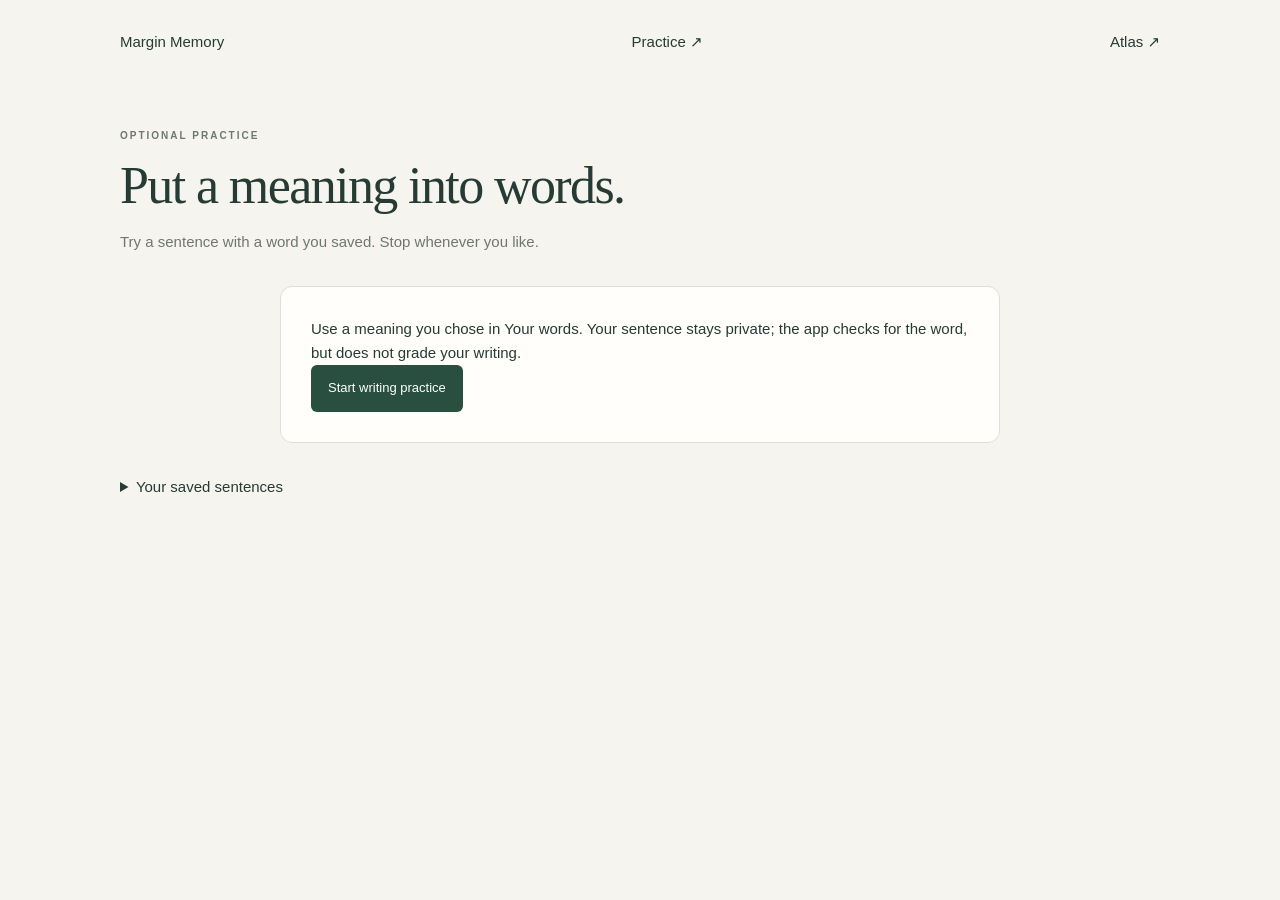
it: retains previously saved reflections inside optional history
Step 1. Click the heading "Your saved sentences" → [209, 486], box [136,478,283,495]
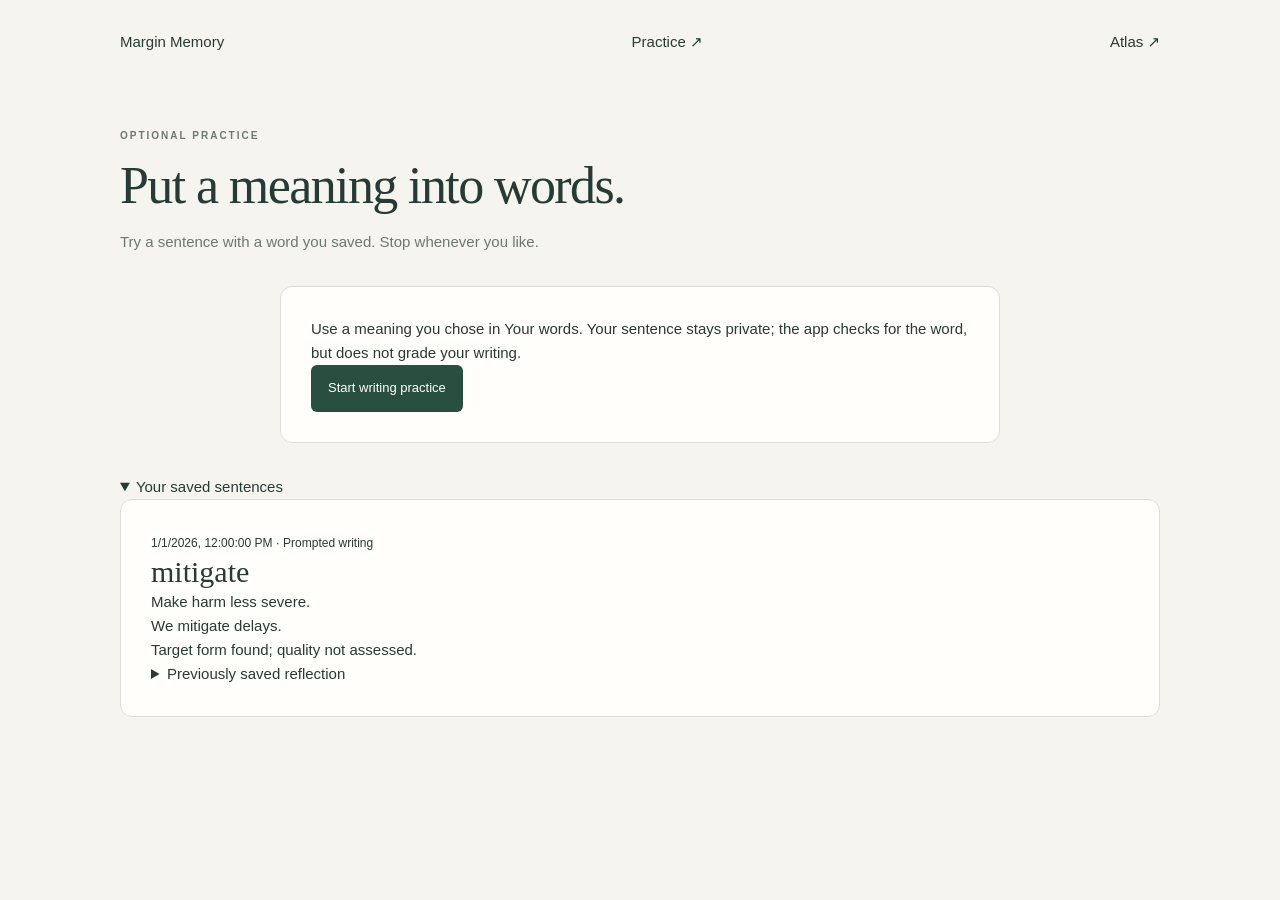
Step 2. Click the heading "Previously saved reflection" → [256, 673], box [167,665,345,682]
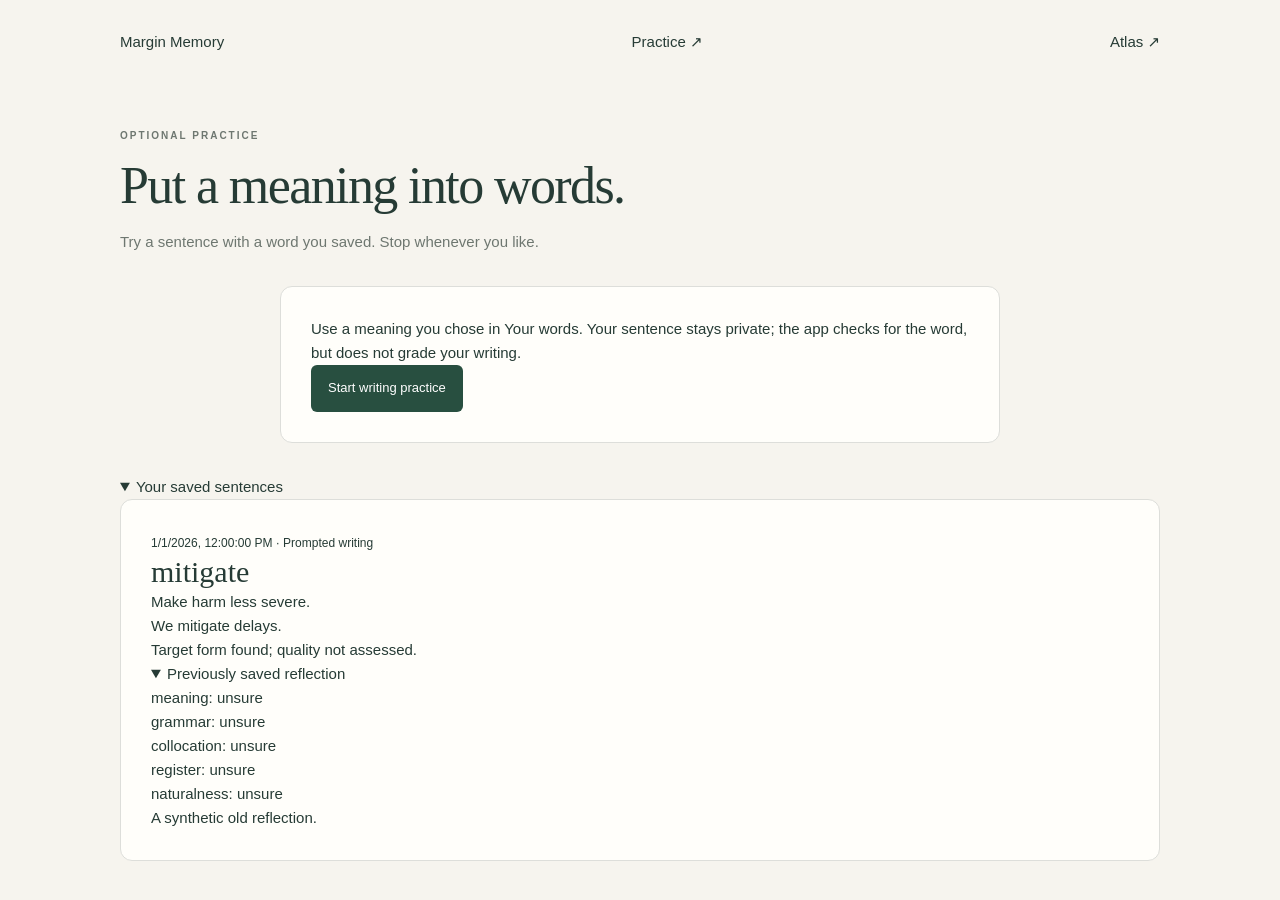
Now the text "A synthetic old reflection." is shown, box [151,809,317,826]
